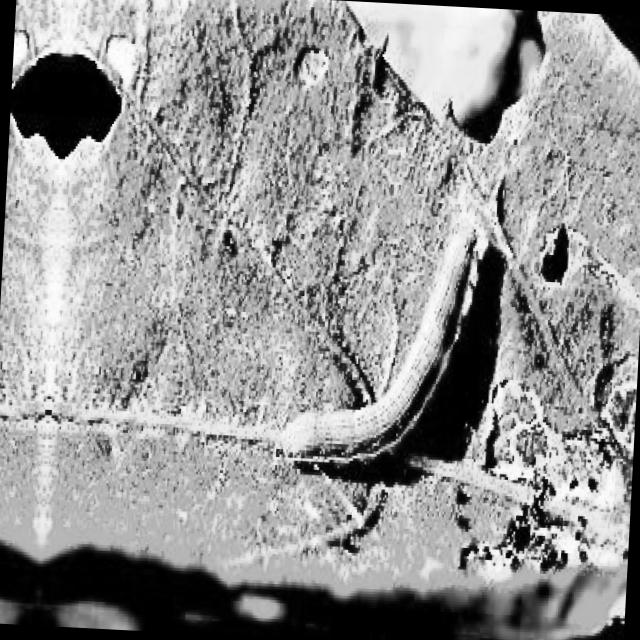Armyworm: (269, 174, 507, 535)
Armyworm_damage: (9, 18, 130, 205)
